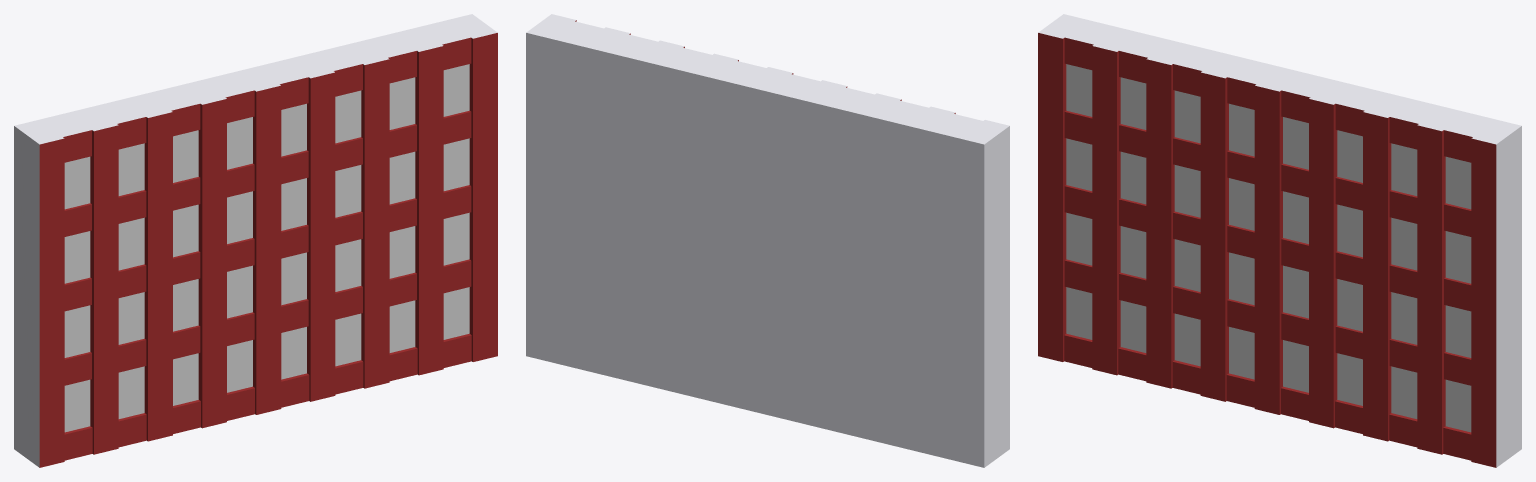
The model's file is Asian_Prop_Building_Modular_Wall_Lattice_01.FBX.
The picture shows the model from 3 angles, left to right: view 1: azimuth 30°, elevation 25°; view 2: azimuth 150°, elevation 25°; view 3: azimuth 330°, elevation 25°; orthographic projection.
Parts seen in each view (by area): view 1: Asian_Prop_Building_Modular_Wall_Lattice_01; view 2: Asian_Prop_Building_Modular_Wall_Lattice_01; view 3: Asian_Prop_Building_Modular_Wall_Lattice_01.
Part boxes in pixels (x1,y1,x2,y2): Asian_Prop_Building_Modular_Wall_Lattice_01: (14,14,497,467); Asian_Prop_Building_Modular_Wall_Lattice_01: (526,14,1009,467); Asian_Prop_Building_Modular_Wall_Lattice_01: (1038,14,1521,467).
Size of the model in its own units: 5167 by 3485 by 500.
